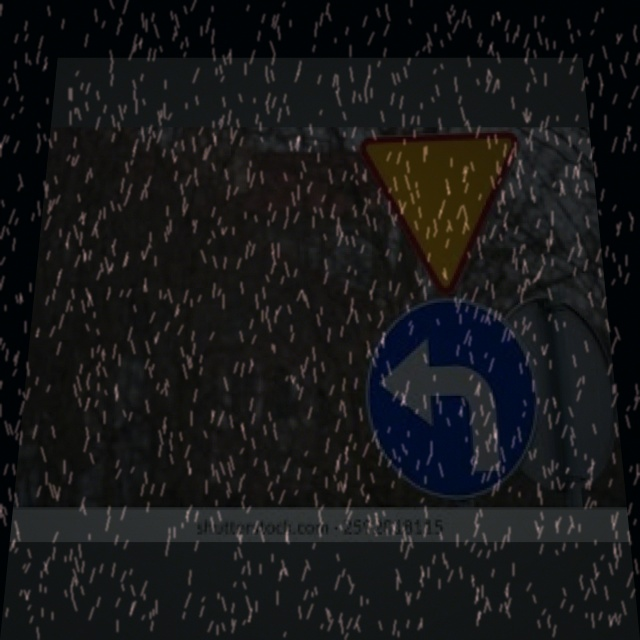Compulsory_Turn_Left_Ahead: (364, 300, 540, 494)
